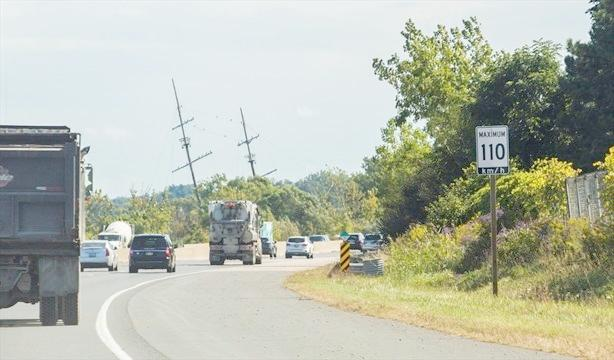speed limit sign: (471, 126, 511, 177)
